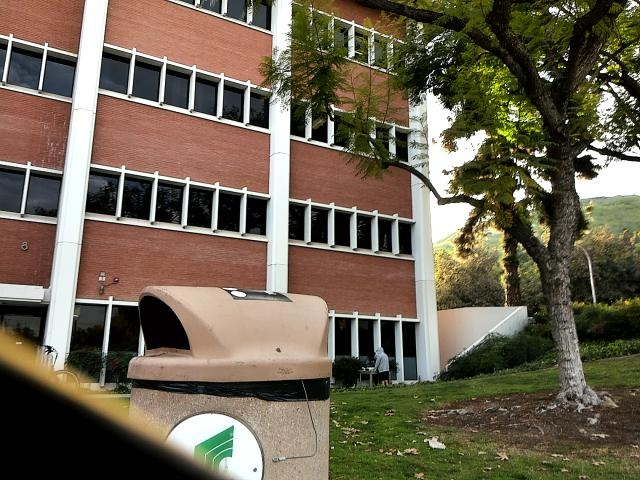trashcan: (132, 272, 352, 480)
